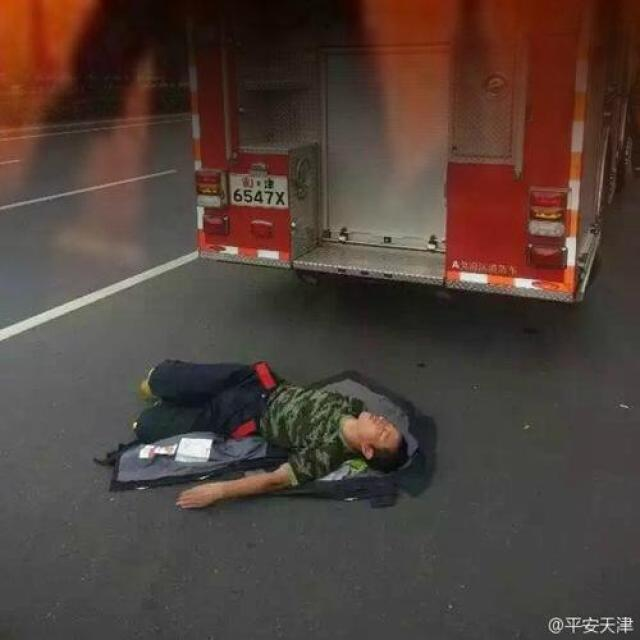down: (88, 345, 410, 507)
